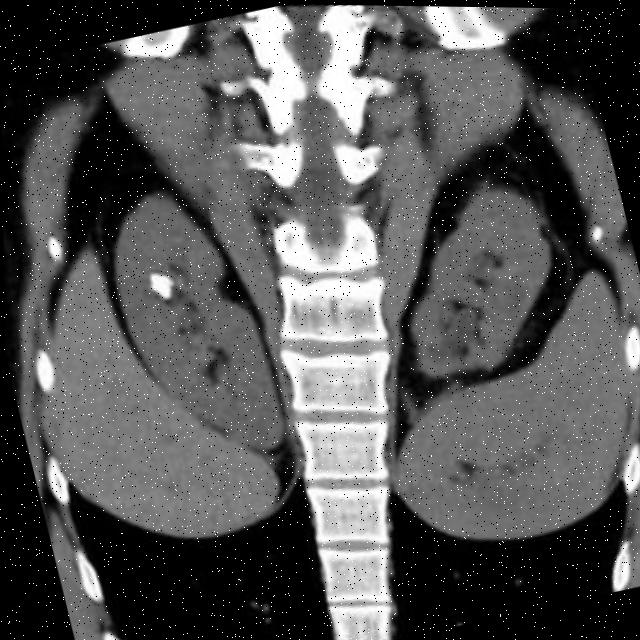Tas_Var: (142, 269, 171, 298), (156, 291, 172, 304), (164, 277, 174, 289)
